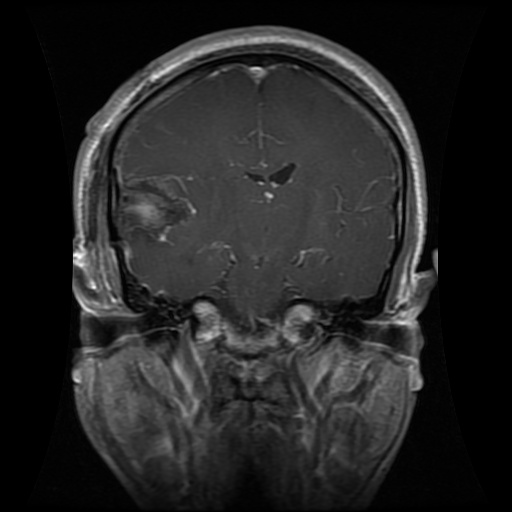glioma: (115, 171, 199, 243)
